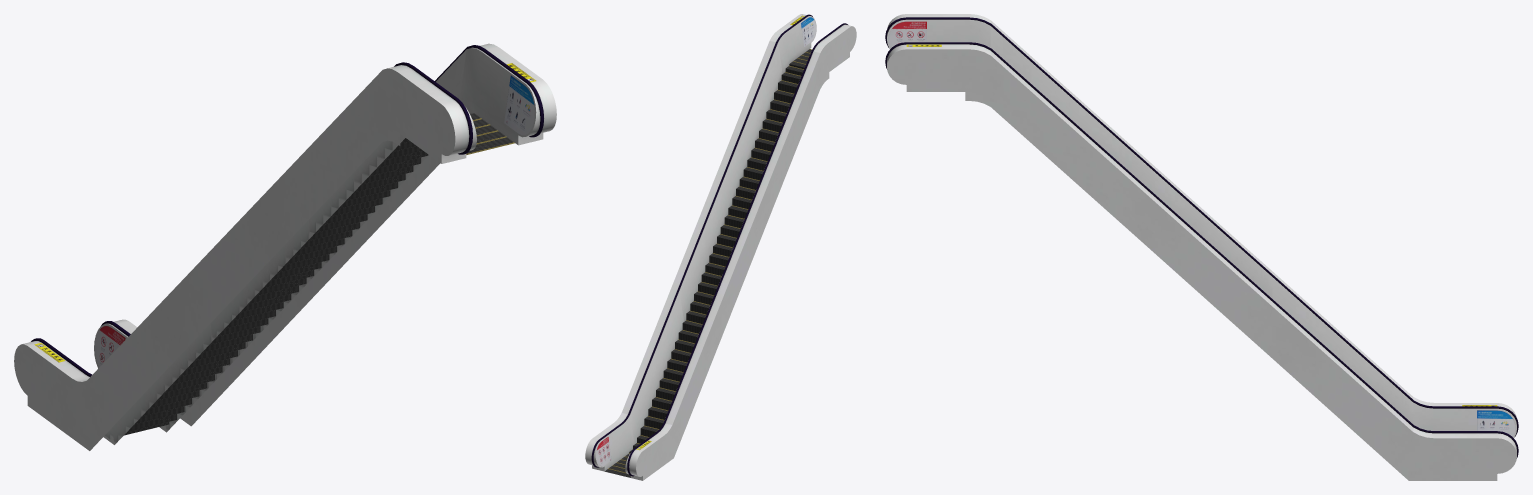
3 renders of one model, left to right at view 1: azimuth 30°, elevation 25°; view 2: azimuth 150°, elevation 25°; view 3: azimuth 270°, elevation 25°, orthographic. The views are drawn at different scales.
Parts seen in each view (by area): view 1: 10M扶梯; view 2: 10M扶梯; view 3: 10M扶梯.
Boxes of the visible parts, x1,y1,x2,y2 form: 10M扶梯: (14,43,556,450); 10M扶梯: (585,14,856,480); 10M扶梯: (885,14,1518,480).
Size of the model in its own units: 1.95 by 11.13 by 14.76.
Materials: 1 (1 with a texture image).
